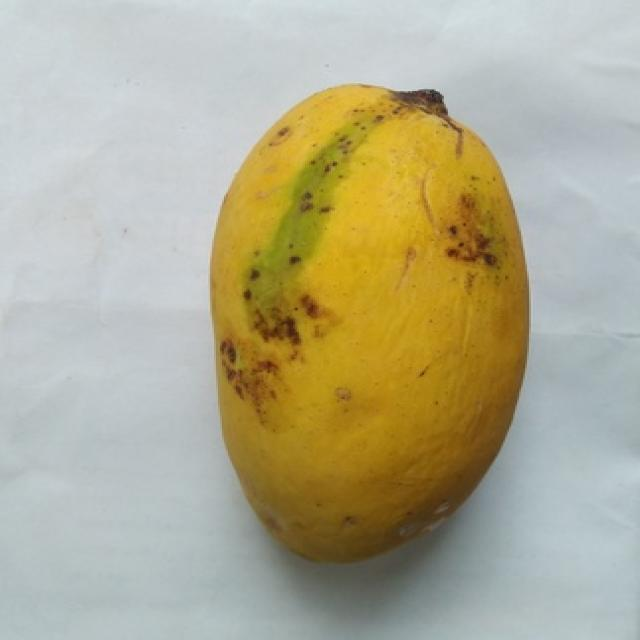Mango: (210, 85, 527, 560)
